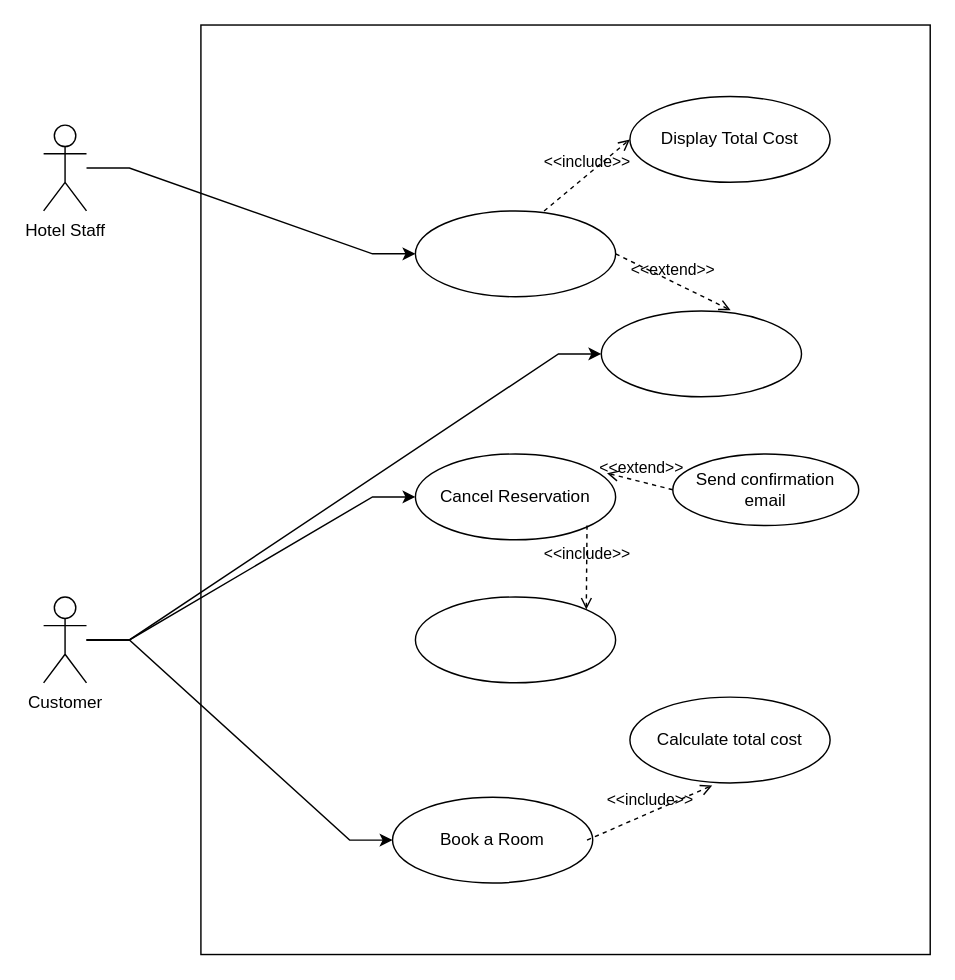
The diagram is 955 pixels wide and 980 high, and some of its shapes have lost their labels. The centre of each missing label's shape, as x and y in pixels:
"Issue refund" belongs at (x=515, y=639).
"Mange room availability" belongs at (x=515, y=253).
"View Reservation" belongs at (x=701, y=353).
